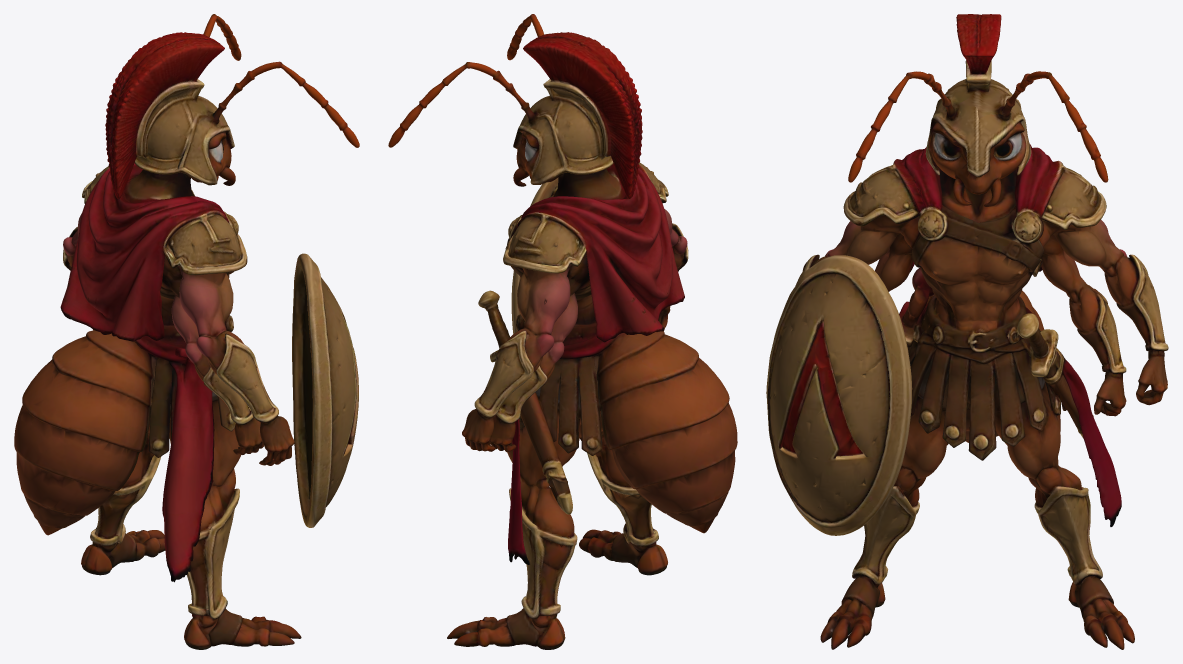
The model's file is spartan_shield.glb.
3 views of the same model, side by side, from view 1: azimuth 30°, elevation 25°; view 2: azimuth 150°, elevation 25°; view 3: azimuth 270°, elevation 25° (orthographic). The views are drawn at different scales.
Visible parts, largest first — view 1: node_cb6ce845-23d6-4fb1-b72e-b47448c40e16; view 2: node_cb6ce845-23d6-4fb1-b72e-b47448c40e16; view 3: node_cb6ce845-23d6-4fb1-b72e-b47448c40e16.
Boxes of the visible parts, x1,y1,x2,y2 form: node_cb6ce845-23d6-4fb1-b72e-b47448c40e16: (14,14,359,649); node_cb6ce845-23d6-4fb1-b72e-b47448c40e16: (388,14,737,649); node_cb6ce845-23d6-4fb1-b72e-b47448c40e16: (766,14,1168,649).
Size of the model in its own units: 0.518 by 1 by 0.606.
Materials: 1 (1 with a texture image).
